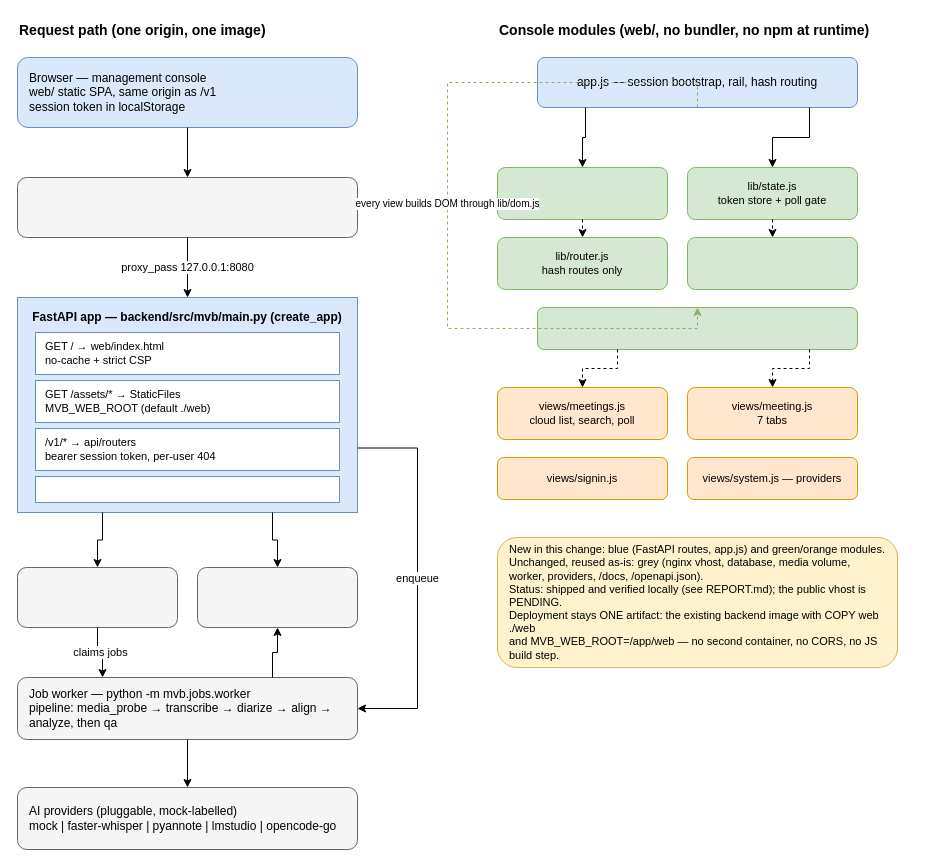
This 935x867 diagram has some shape labels left out. Here are the shapes that lost their labels. From the top down, the centre of each, then its label:
At (x=187, y=207): "nginx vhost meetvault.supersanta.io.vn".
At (x=582, y=193): "lib/api.js the /v1 client".
At (x=772, y=263): "lib/format.js status vocabulary".
At (x=697, y=328): "lib/dom.js — element builder (no innerHTML: CSP)".
At (x=187, y=489): "/docs + /openapi.json unchanged".
At (x=97, y=597): "SQLite dev / Postgres prod".
At (x=277, y=597): "Media volume /data/media".
